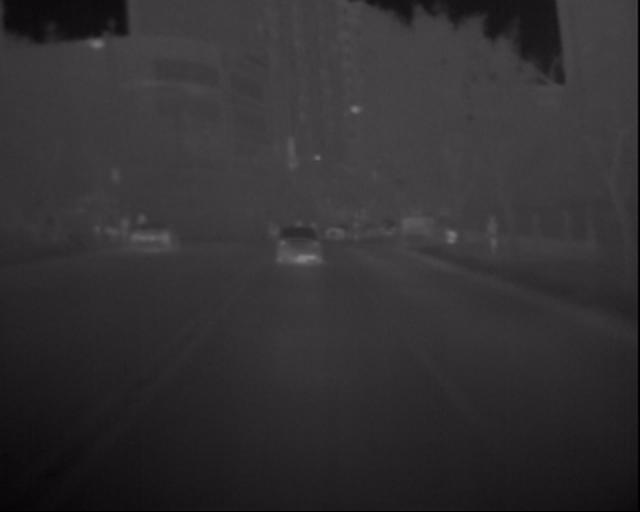person: (65, 206, 163, 251), (484, 212, 504, 257)
